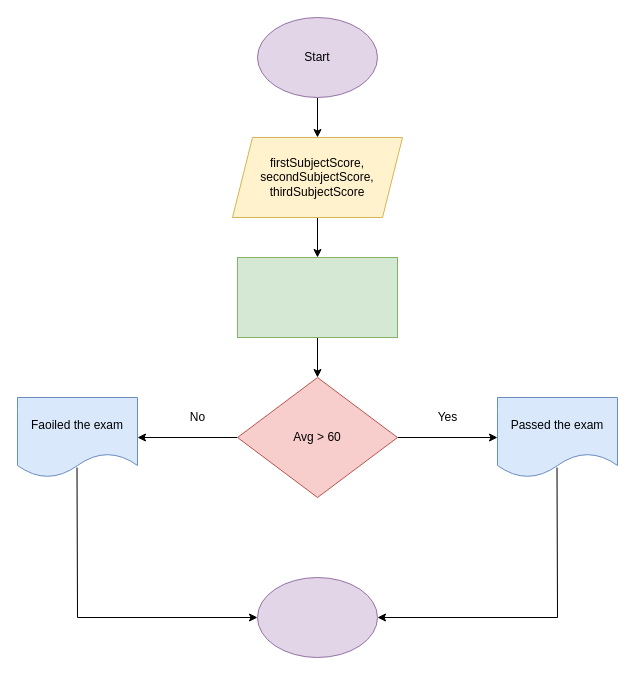
Some shapes in this 635 by 675 pixel diagram are drawn without their labels. Here are the shapes that lost their labels. From the top down, the centre of each, then its label:
[317,297]: Avg = (firstSubjectScore + secondSubjectScore + thirdSubjectScore) / 3
[317,617]: End
